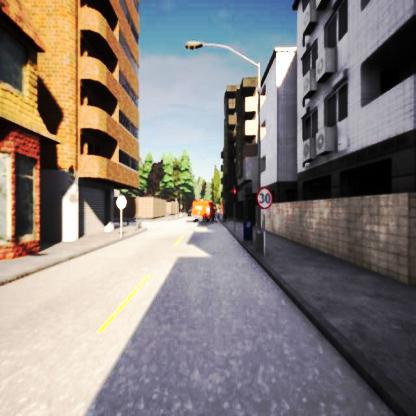vehicle: (192, 200, 214, 220)
